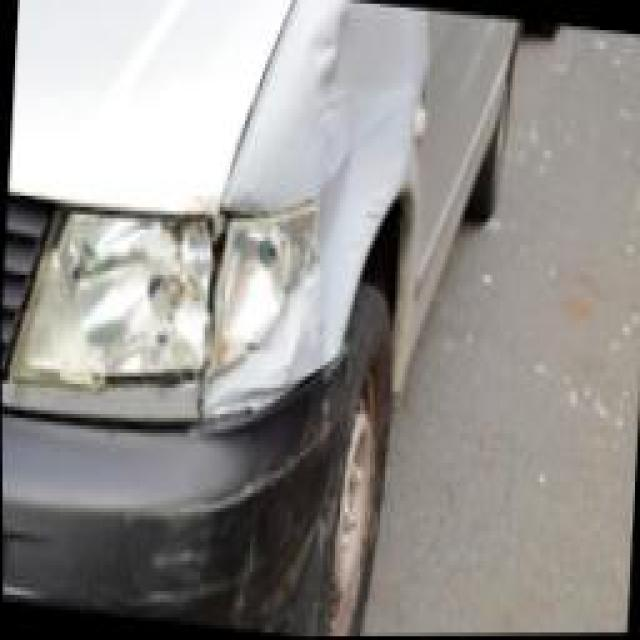Bumper: (105, 380, 336, 638)
Fender: (285, 4, 416, 321)
Light: (28, 200, 286, 405)
